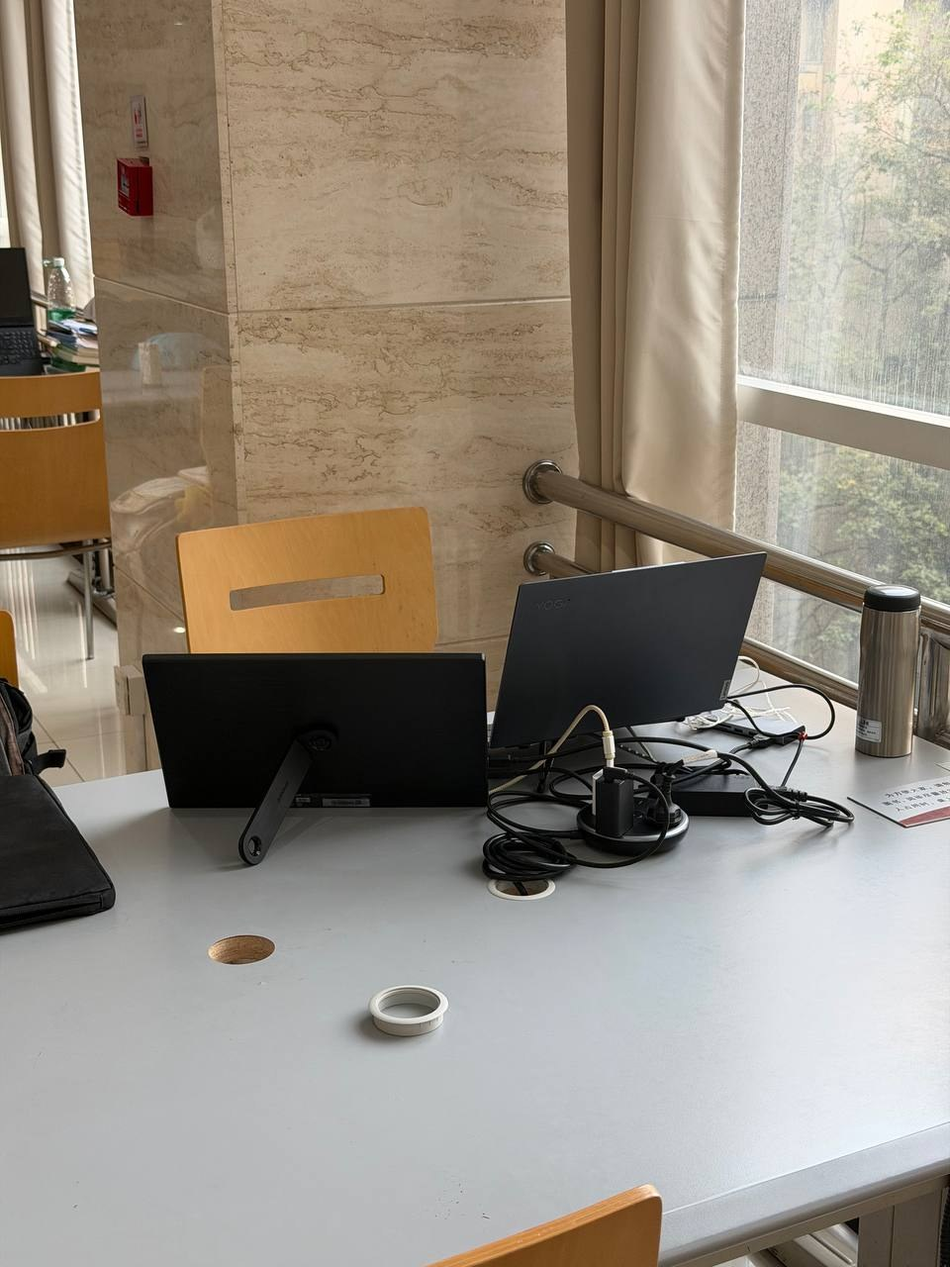laptop: (488, 550, 768, 758), (142, 652, 489, 809), (0, 247, 45, 375)
